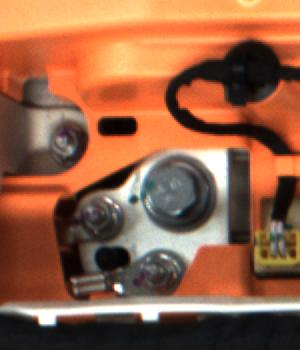nut_b: (138, 148, 224, 239)
